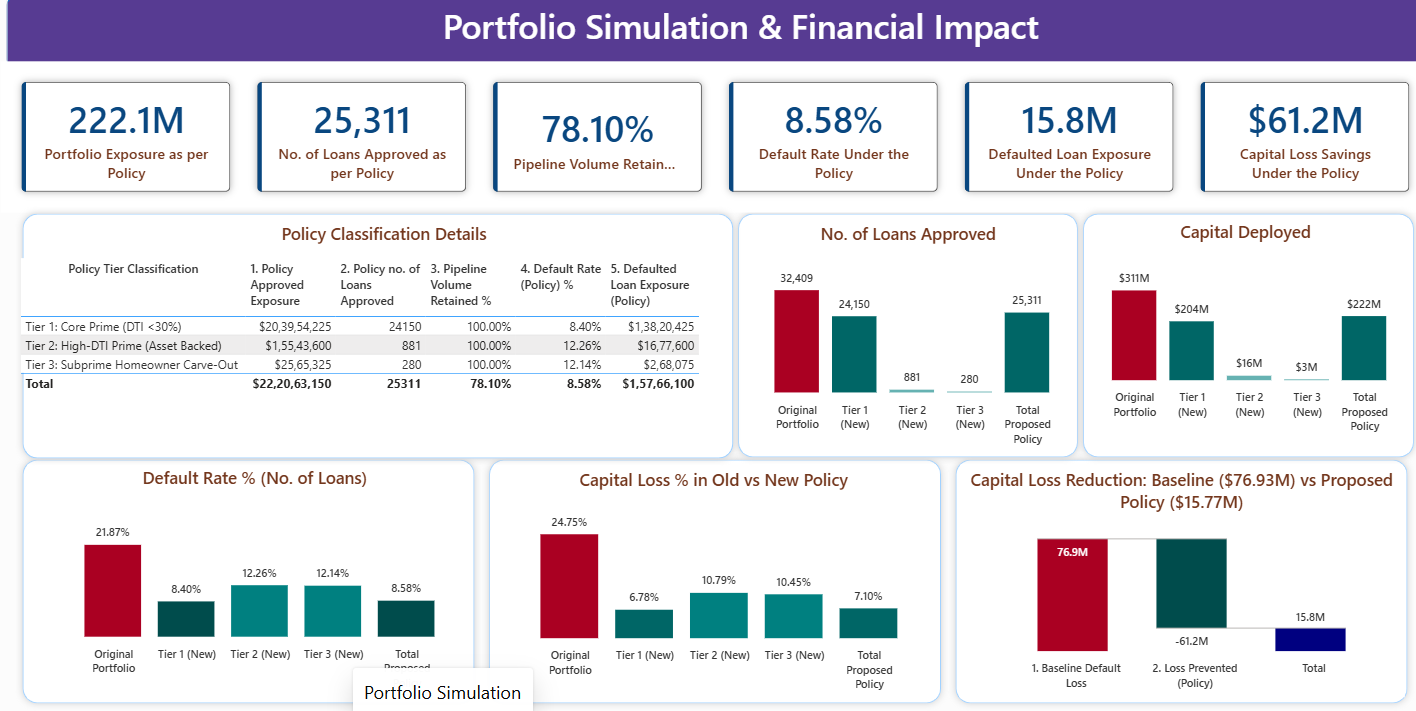

Layout of this report page (visuals, bound fields, positions):
{"tool":"powerbi","page":{"name":"New Policy Impact","canvas":[1600,800],"ordinal":1},"visuals":[{"type":"shape","box":[540,505,518,286.7],"z":0},{"type":"shape","box":[1058.3,505,518,286.7],"z":1000},{"type":"shape","box":[817,231.7,393.3,286.7],"z":2000},{"type":"shape","box":[12,0,1572,76],"z":3000},{"type":"shape","box":[21.7,505,518,286.7],"z":4000},{"type":"cardVisual","fields":{"Data":["_Measures.Policy Approved Exposure","_Measures.2. Policy no. of Loans Approved","_Measures.Pipeline Volume Retained %","_Measures.Proposed Default Rate %","_Measures.5. Defaulted Loan Exposure (Policy)","_Measures.Capital Loss Saved"]},"box":[0,65,1600,178.3],"z":5000},{"type":"shape","box":[21.9,231.7,805.5,287.9],"z":6000},{"type":"clusteredColumnChart","title":"No. of Loans Approved","fields":{"Category":["Policy_Comparison_Table.Category"],"Y":["Policy_Comparison_Table.Approved Borrowers"]},"box":[825,248.3,377.2,256.9],"z":7000},{"type":"textbox","box":[410,0,834.6,82],"z":8000},{"type":"tableEx","title":"Policy Classification Details","fields":{"Values":["credit_risk_clean.Policy Tier Classification","_Measures.1. Policy Approved Exposure","_Measures.2. Policy no. of Loans Approved","_Measures.3. Pipeline Volume Retained %","_Measures.4. Default Rate (Policy) %","_Measures.5. Defaulted Loan Exposure (Policy)"]},"box":[21.7,248.3,819,263.8],"z":9000},{"type":"waterfallChart","title":"Capital Loss Reduction: Baseline ($76.93M) vs Proposed Policy ($15.77M)","fields":{"Category":["Waterfall_Loss_Table.Stage"],"Y":["_Measures.Waterfall Loss Value"]},"box":[1070,521.7,495,255],"z":10000},{"type":"shape","box":[1200,231.7,383.3,286.7],"z":11000},{"type":"clusteredColumnChart","title":"Capital Deployed","fields":{"Category":["Policy_Comparison_Table.Category"],"Y":["Policy_Comparison_Table.Capital Deployed"]},"box":[1200,246.7,376.7,245],"z":12000},{"type":"clusteredColumnChart","title":"Default Rate % (No. of Loans)","fields":{"Category":["Policy_Comparison_Table.Category"],"Y":["Policy_Comparison_Table.Default Rate (New v Old) %"]},"box":[48.3,520,478.3,256.7],"z":13000},{"type":"clusteredColumnChart","title":"Capital Loss % in Old vs New Policy","fields":{"Category":["Policy_Comparison_Table.Category"],"Y":["Policy_Comparison_Table.Capital Loss (New v Old) %"]},"box":[553.3,521.7,488.3,256.7],"z":14000}]}

Visuals, with their boxes in screenshot pixels (x1, y1, x2, y2), scaled from the page's 1600x800 canvas onto the 1416x711 screenshot:
shape: [478,449,936,704]
shape: [937,449,1395,704]
shape: [723,206,1071,461]
shape: [11,0,1402,68]
shape: [19,449,478,704]
cardVisual - _Measures.Policy Approved Exposure x _Measures.2. Policy no. of Loans Approved: [0,58,1415,216]
shape: [19,206,732,462]
"No. of Loans Approved" clusteredColumnChart: [730,221,1064,449]
textbox: [363,0,1101,73]
"Policy Classification Details" tableEx: [19,221,744,455]
"Capital Loss Reduction: Baseline ($76.93M) vs Proposed Policy ($15.77M)" waterfallChart: [947,464,1385,690]
shape: [1062,206,1401,461]
"Capital Deployed" clusteredColumnChart: [1062,219,1395,437]
"Default Rate % (No. of Loans)" clusteredColumnChart: [43,462,466,690]
"Capital Loss % in Old vs New Policy" clusteredColumnChart: [490,464,922,692]
